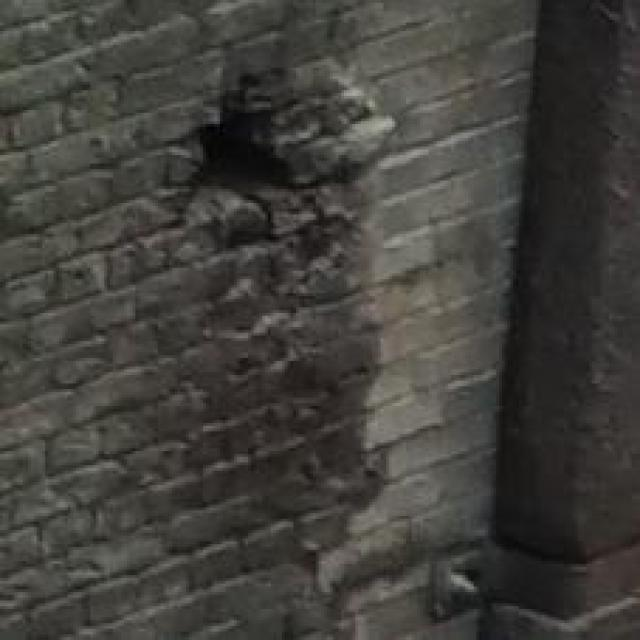Crack: (137, 31, 376, 343)
